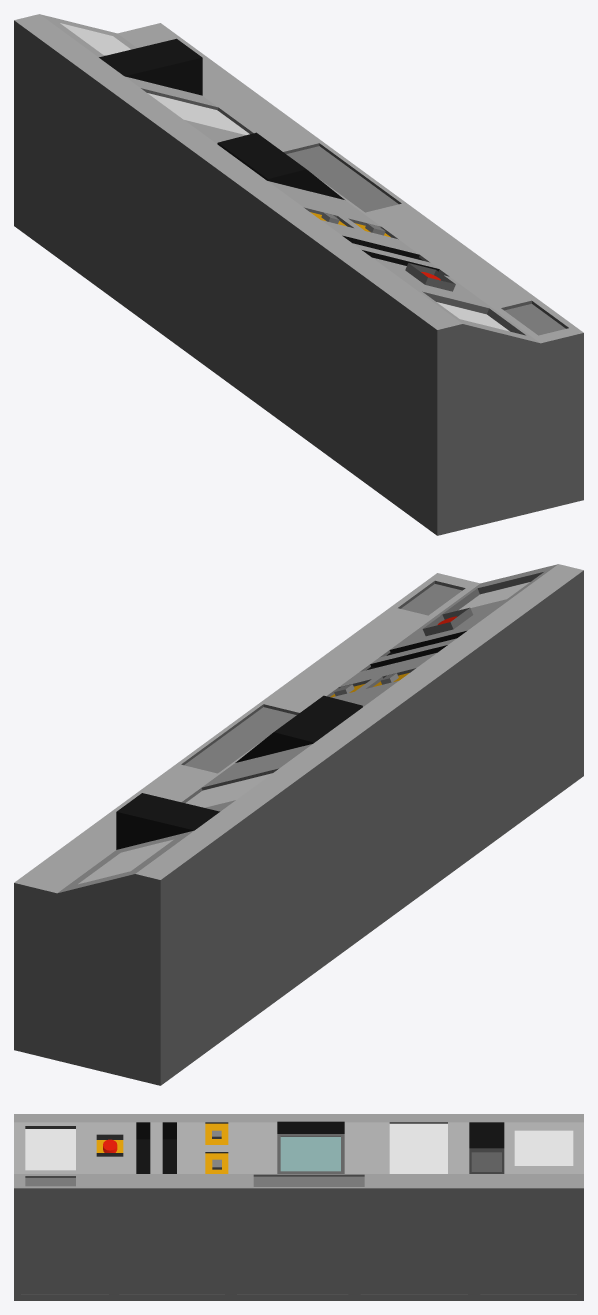
The model's file is Console.fbx.
3 renders of one model, top to bottom at view 1: azimuth 30°, elevation 25°; view 2: azimuth 150°, elevation 25°; view 3: azimuth 270°, elevation 25°, orthographic. The views are drawn at different scales.
Parts seen in each view (by area): view 1: Cube; view 2: Cube; view 3: Cube.
Boxes of the visible parts, x1,y1,x2,y2 form: Cube: (14, 14, 583, 535); Cube: (14, 564, 583, 1085); Cube: (14, 1114, 583, 1300).
Bounding box in the file's own units: 70 × 94.78 × 350.
